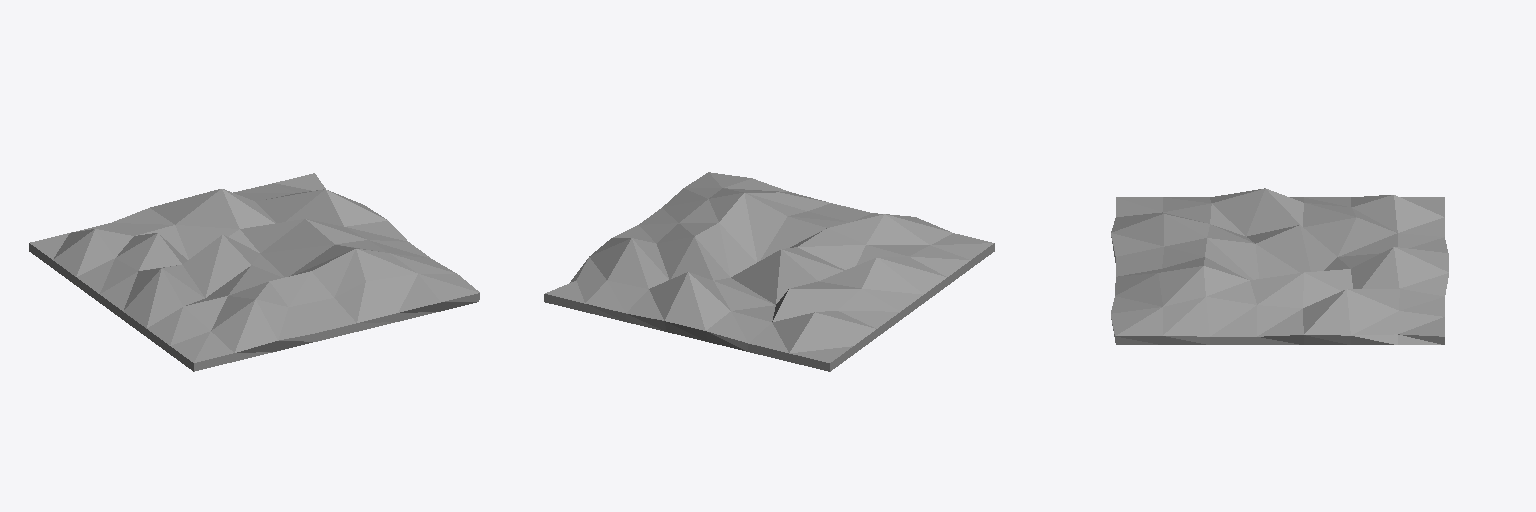
The model's file is bottom.obj.
3 renders of one model, left to right at view 1: azimuth 30°, elevation 25°; view 2: azimuth 150°, elevation 25°; view 3: azimuth 270°, elevation 25°, orthographic.
Parts seen in each view (by area): view 1: Cube_Cube.002; view 2: Cube_Cube.002; view 3: Cube_Cube.002.
Part boxes in pixels (x1,y1,x2,y2): Cube_Cube.002: (29,173,479,371); Cube_Cube.002: (544,172,994,371); Cube_Cube.002: (1111,188,1448,344).
Size of the model in its own units: 14.16 by 1.91 by 14.39.